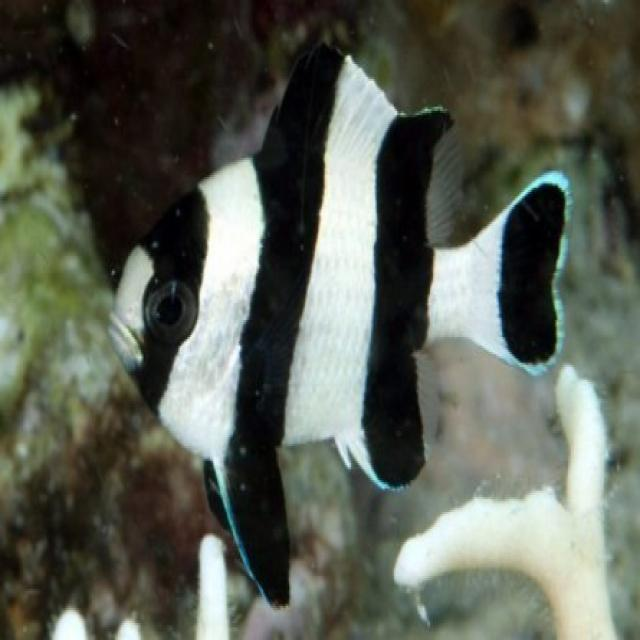Three_striped DasmselFish: (113, 43, 574, 596)
